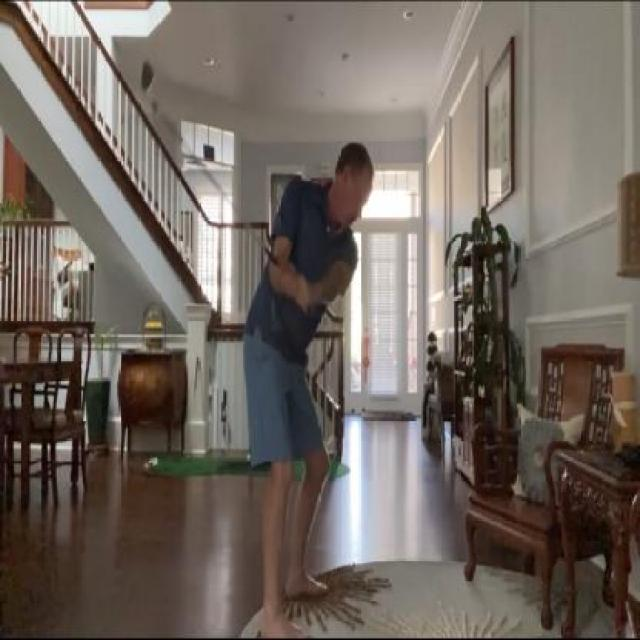club head: (139, 56, 156, 98)
